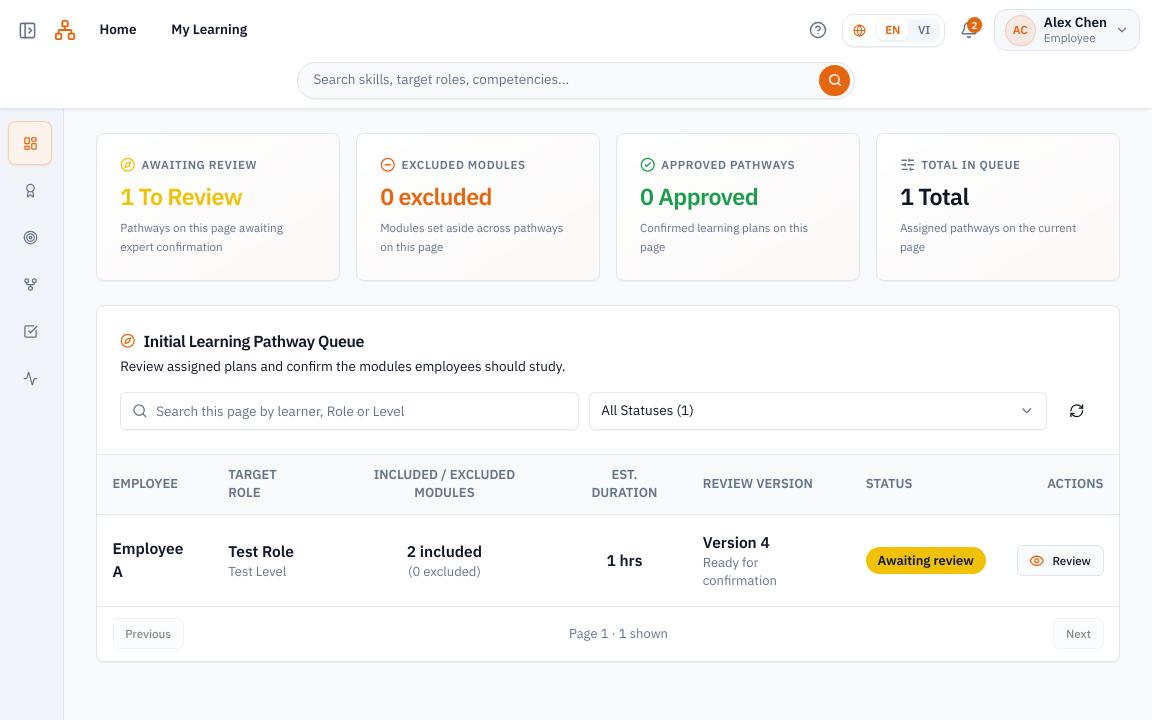
Test: R02 local search never invents server-side filters and preserves assigned row target
Type "unmatched-other-tenant" into the field at [350, 411], box [120,392,579,430]
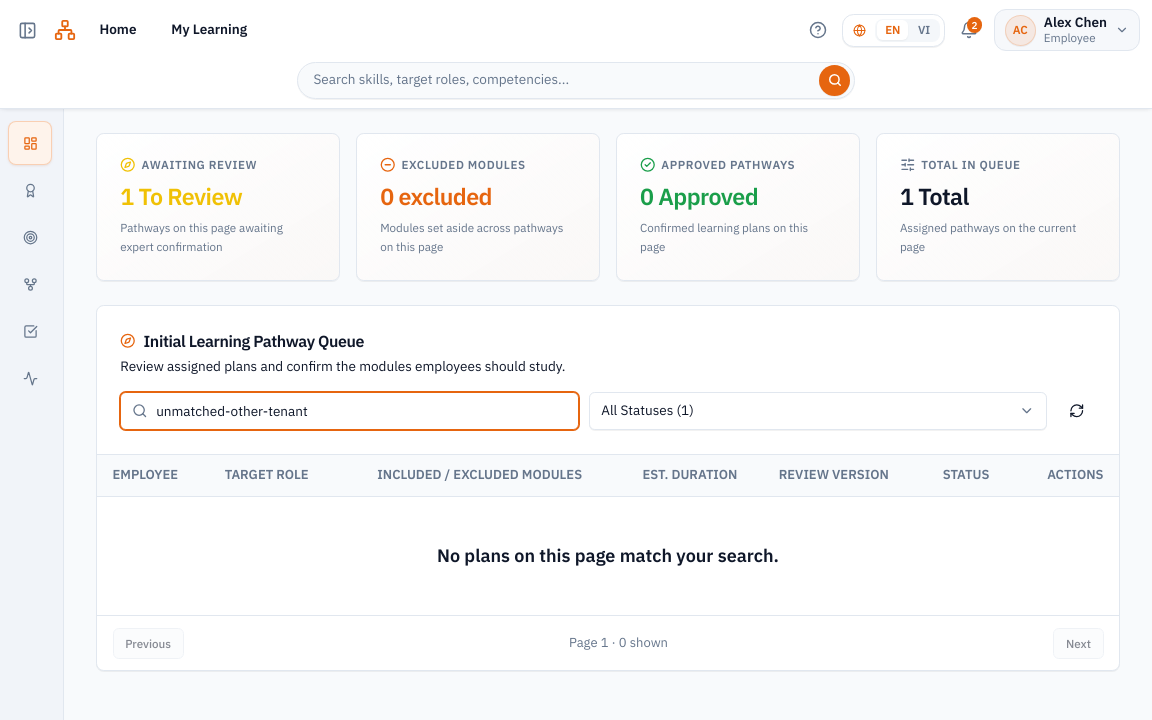
Clear the field at [350, 411], box [120,392,579,430]
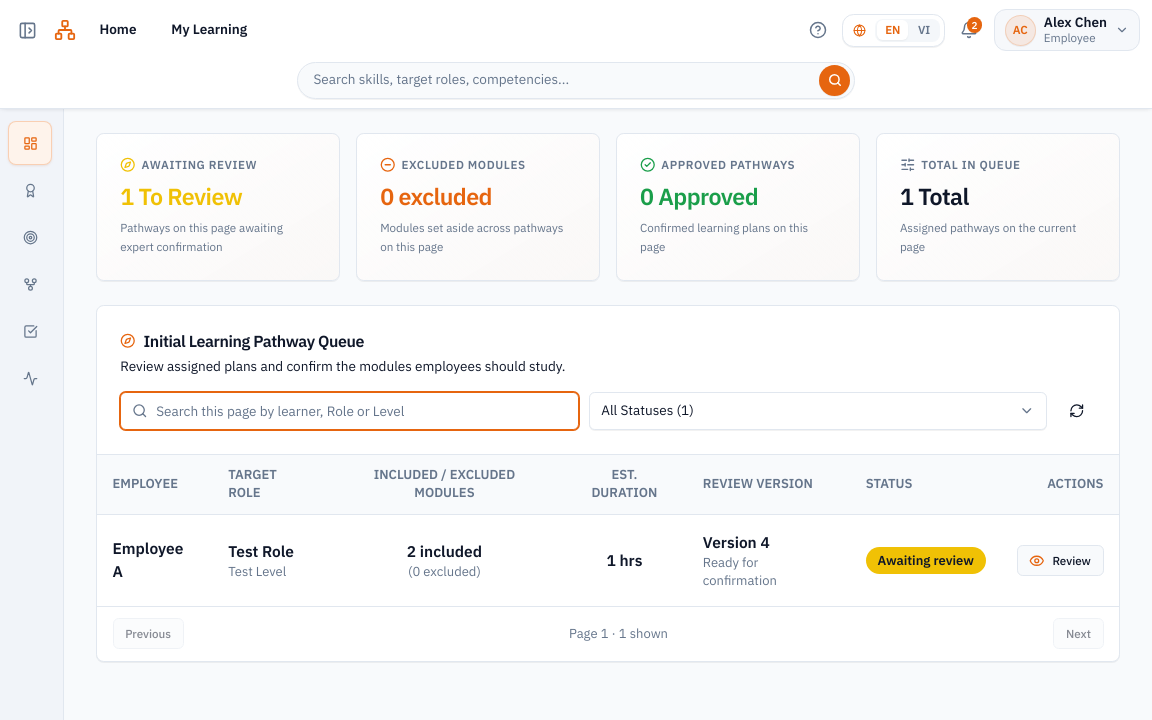
Expected: the link "Review" is shown, [1016,545,1104,576]
